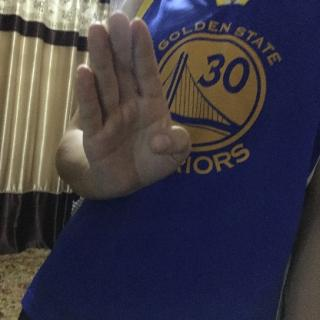KAAF: (70, 8, 197, 205)
